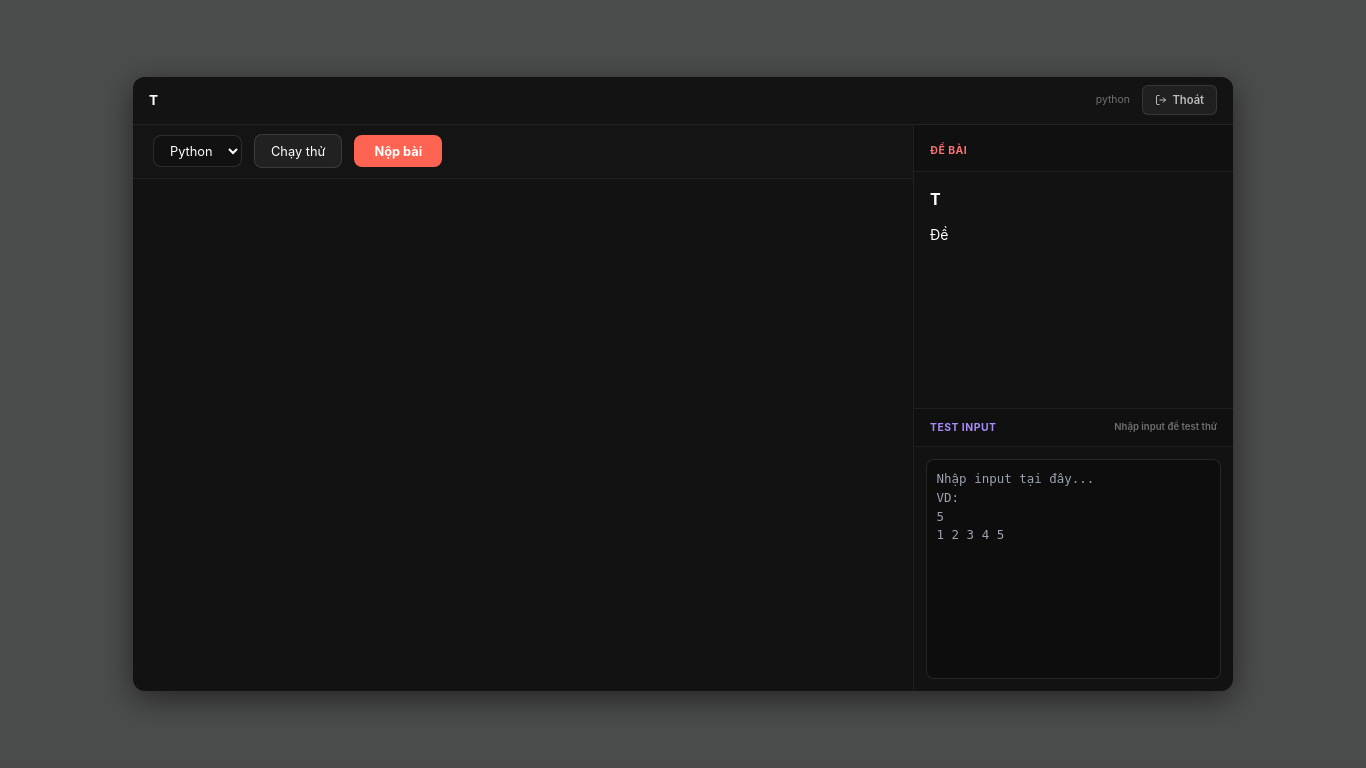
AssignmentWorkOverlay — verdict bài nộp code (chấm nền) › system_error: báo máy chấm không sẵn sàng, không 'Đã nộp', nút Nộp bài vẫn bấm được
The width and height of the screenshot is (1366, 768).
Click the button "Nộp bài".
click(398, 151)  # box [354, 135, 442, 167]
Wait 1500 ms
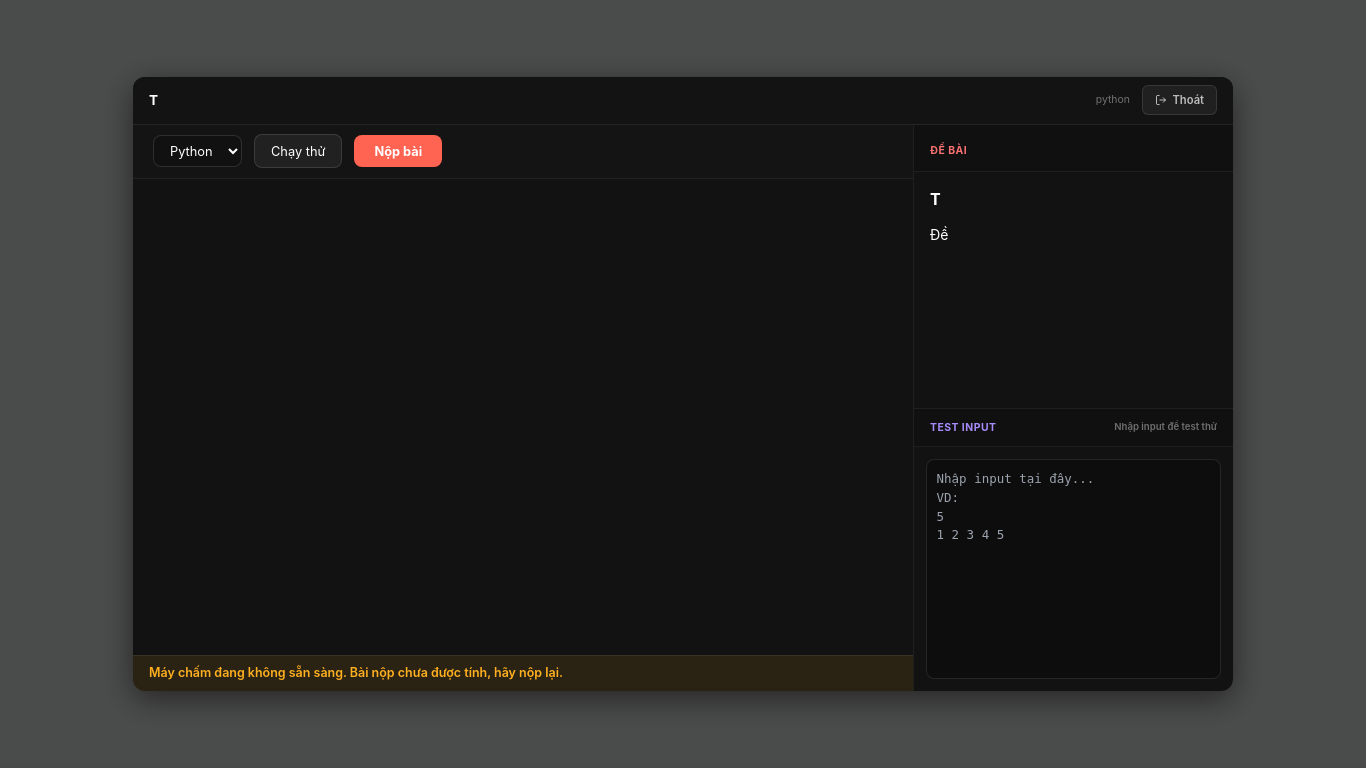
Expected: the message with test id "live-submission-verdict" reads "Máy chấm đang không sẵn sàng. Bài nộp chưa được tính, hãy nộp lại.", [149, 666, 563, 680]
